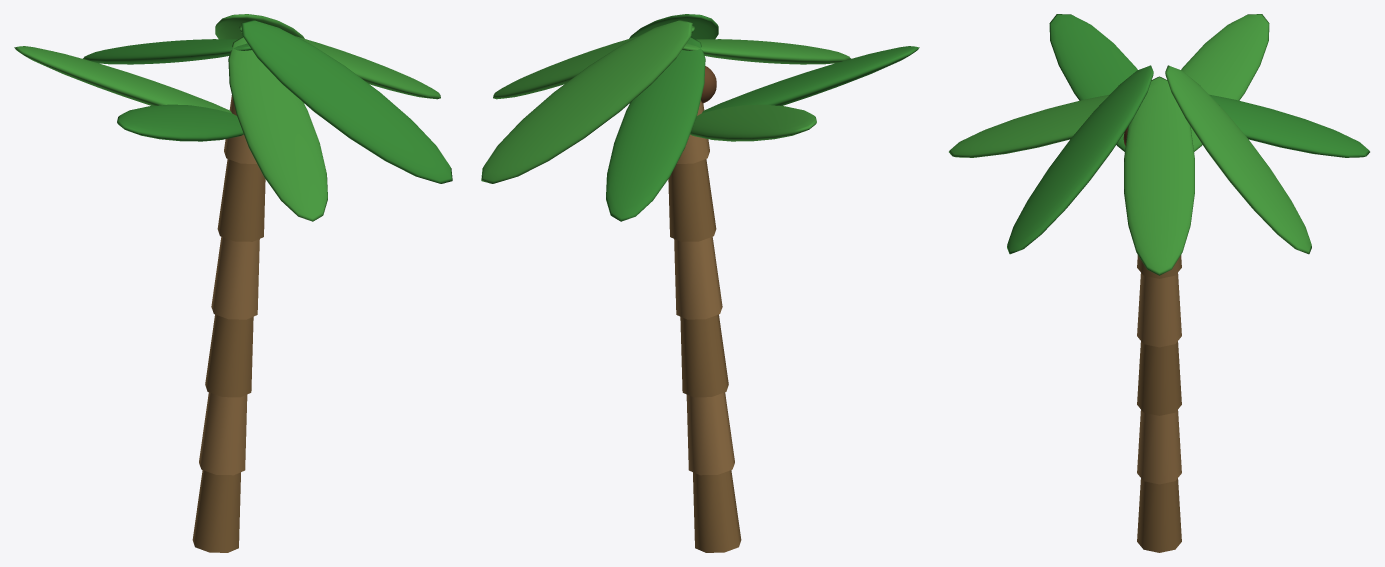
The model's file is palm.glb.
The picture shows the model from 3 angles, left to right: view 1: azimuth 30°, elevation 25°; view 2: azimuth 150°, elevation 25°; view 3: azimuth 270°, elevation 25°; orthographic projection. The views are drawn at different scales.
Visible parts, largest first — view 1: farm_palm; view 2: farm_palm; view 3: farm_palm.
Boxes of the visible parts, <box> form: farm_palm: <box>14,14,452,552</box>; farm_palm: <box>481,14,919,552</box>; farm_palm: <box>949,14,1369,552</box>.
Bounding box in the file's own units: 3.57 × 4.79 × 3.75.
